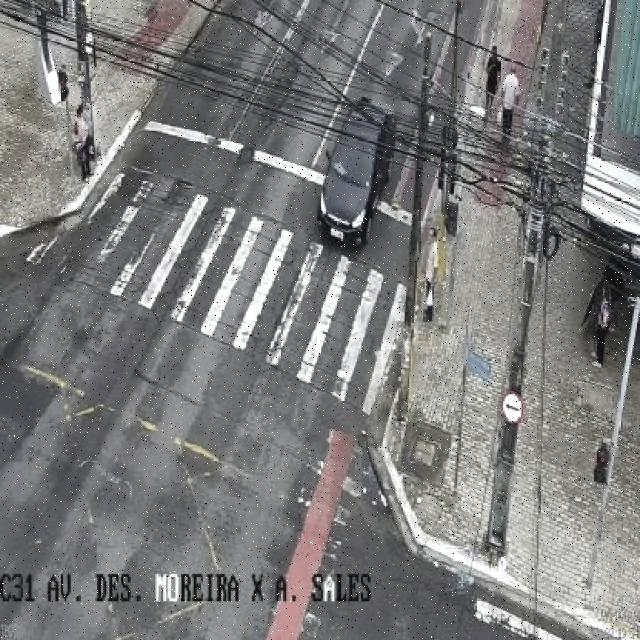Car: (302, 78, 398, 262)
